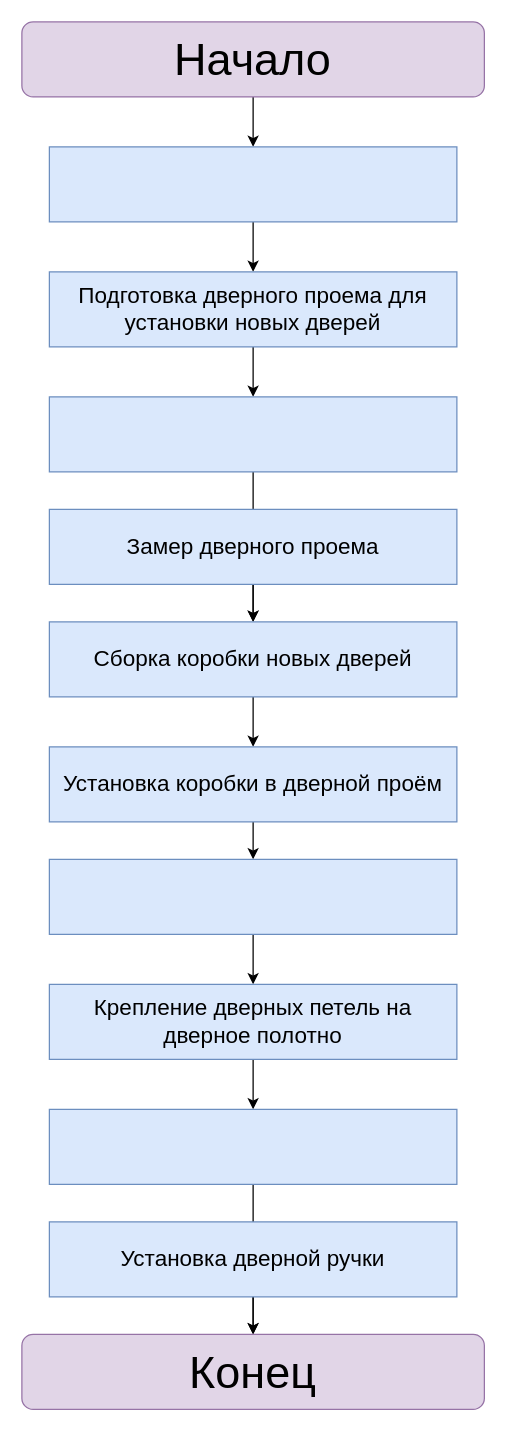
Some shapes in this 506 by 1431 pixel diagram are drawn without their labels. Each missing label, with the centre of its shape:
"Демотаж старой дверной коробки" belongs at [252,184].
"Навешивание дверного полотна" belongs at [252,1146].
"Подготовка дверного полотна" belongs at [252,896].
"Распаковка новых дверей" belongs at [252,434].
